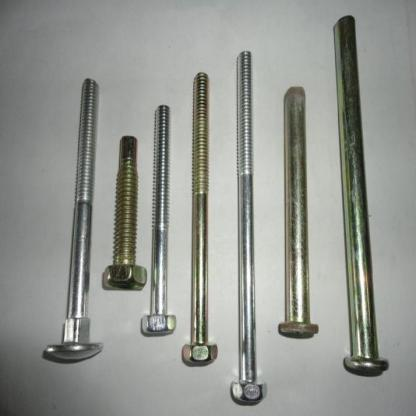FOD: (41, 80, 104, 367), (228, 49, 268, 408), (180, 70, 220, 368), (140, 101, 178, 338), (103, 132, 148, 294)
